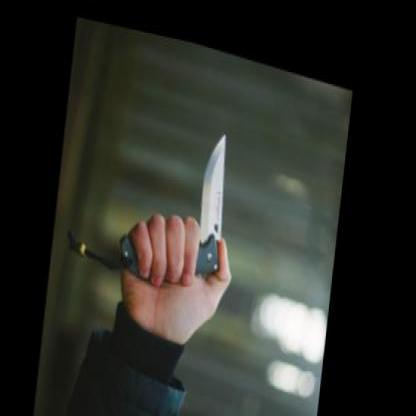knife: (176, 96, 247, 275)
